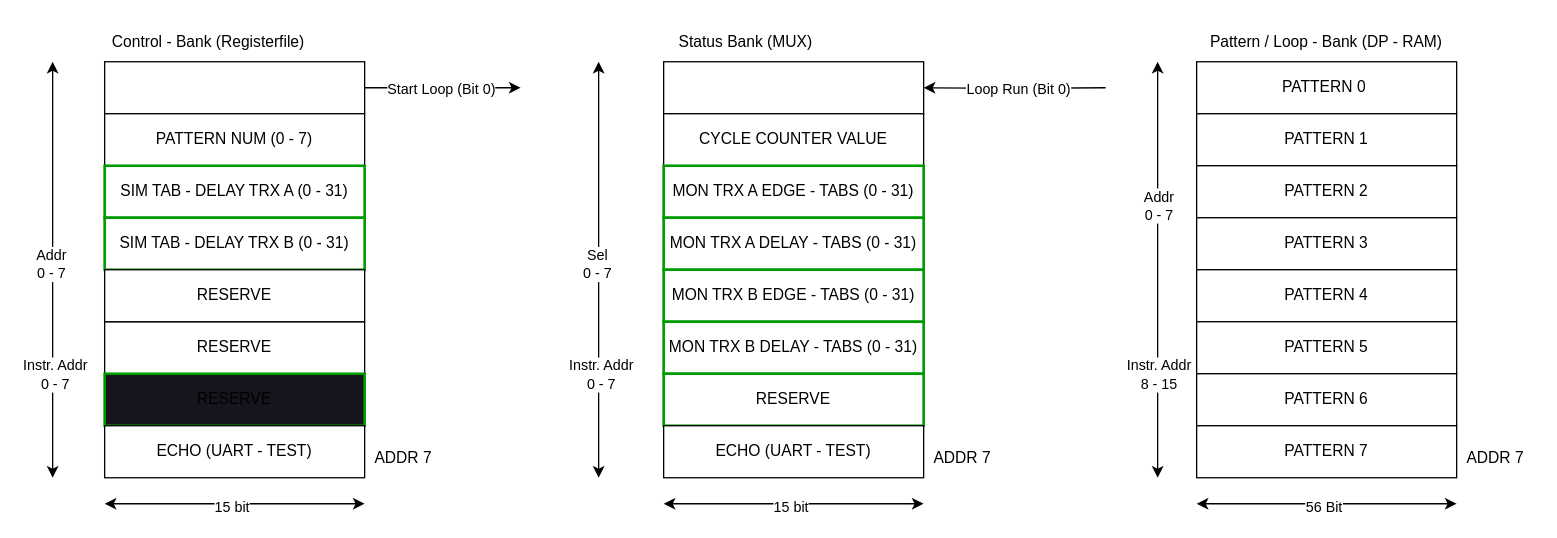
Some shapes in this 1557 by 538 pixel diagram are drawn without their labels. Each missing label, with the centre of its shape:
"LOOP CONTROL" goes at (x=234, y=87).
"STATUS BITS (0 - 15)" goes at (x=793, y=87).
